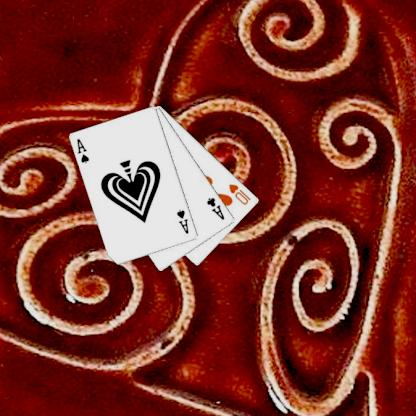10H: (226, 181, 252, 206)
AC: (204, 195, 226, 222)
AS: (74, 136, 91, 165), (174, 207, 190, 235)
